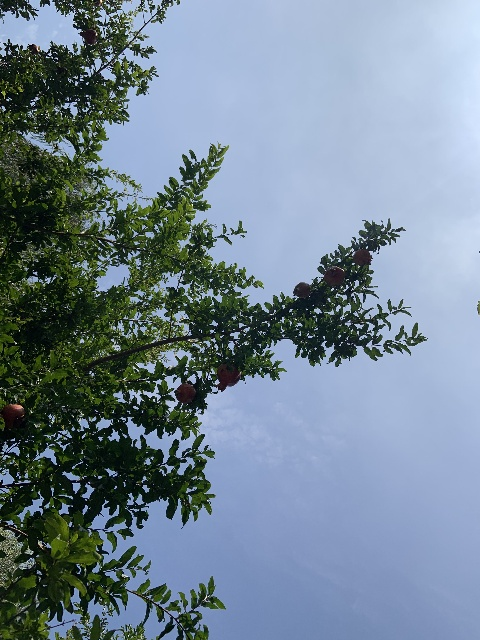ripe: (216, 363, 241, 392), (1, 404, 25, 428), (174, 383, 195, 403), (323, 266, 344, 286), (353, 249, 373, 266), (292, 282, 310, 298)
